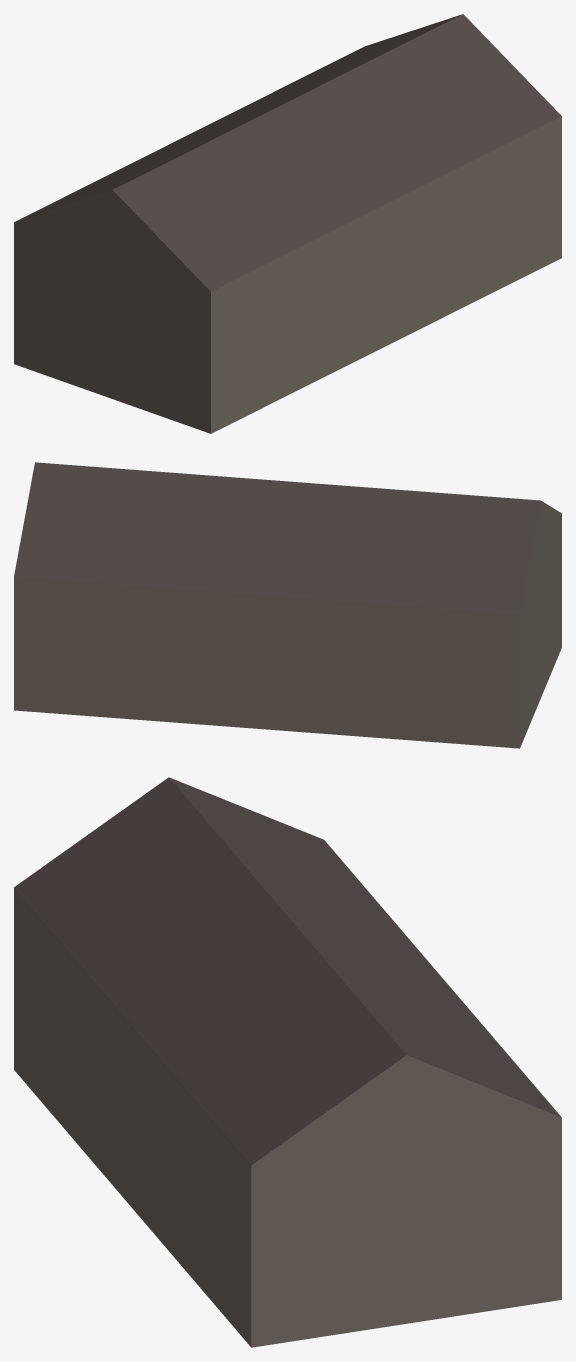
3 renders of one model, top to bottom at view 1: azimuth 30°, elevation 25°; view 2: azimuth 150°, elevation 25°; view 3: azimuth 270°, elevation 25°, orthographic. The views are drawn at different scales.
Visible parts, largest first — view 1: HP-w408450716; view 2: HP-w408450716; view 3: HP-w408450716.
Part boxes in pixels (x1,y1,x2,y2): HP-w408450716: (14, 14, 561, 433); HP-w408450716: (14, 462, 561, 748); HP-w408450716: (14, 777, 561, 1347).
Size of the model in its own units: 23 by 8.85 by 16.35.
